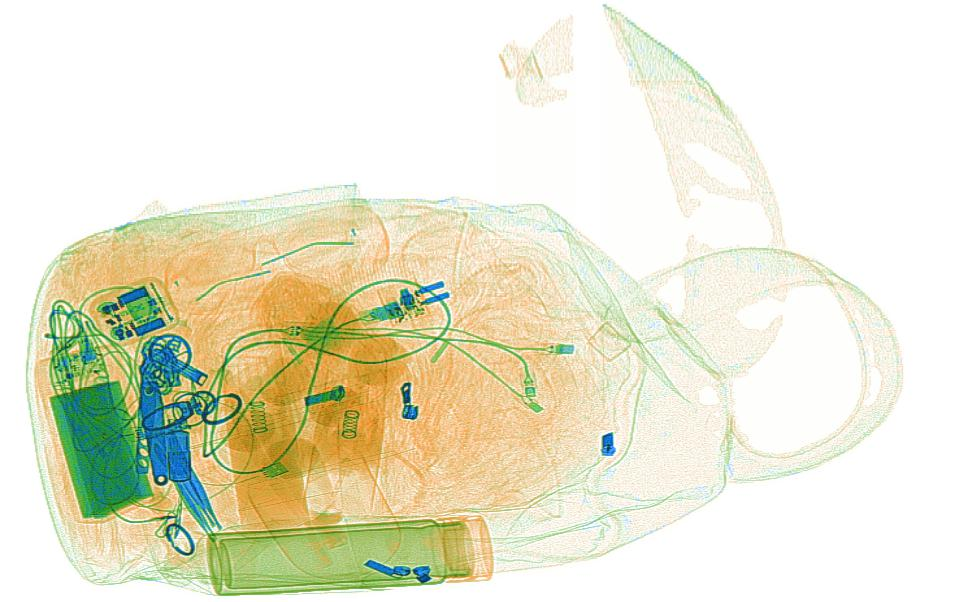plasticBottleWithaNozzle: (218, 337, 312, 544), (299, 333, 388, 519)
